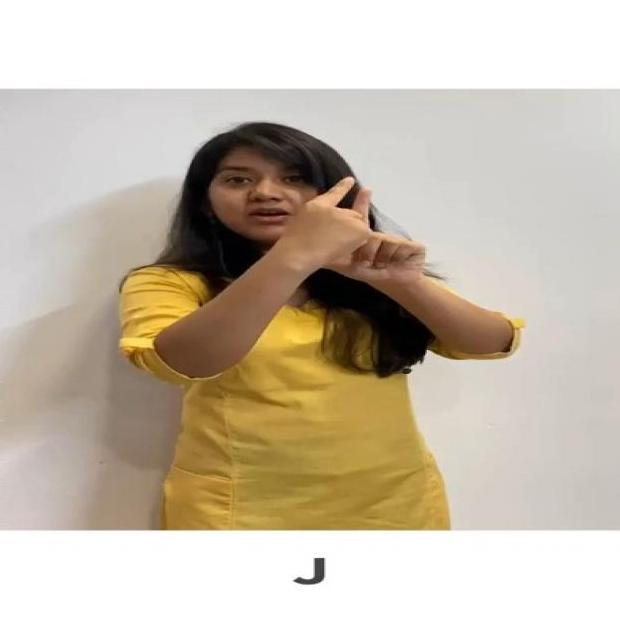I: (278, 164, 458, 309)
